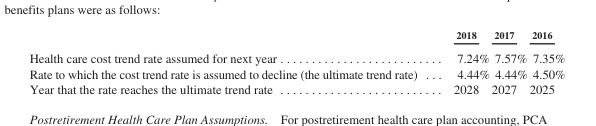table: (28, 29, 564, 95)
table column: (28, 29, 434, 95), (434, 29, 489, 95), (489, 29, 527, 95), (527, 29, 564, 95)
table column header: (28, 29, 564, 45)
table row: (28, 45, 564, 65), (28, 29, 564, 45), (28, 65, 564, 80), (28, 80, 564, 95)
